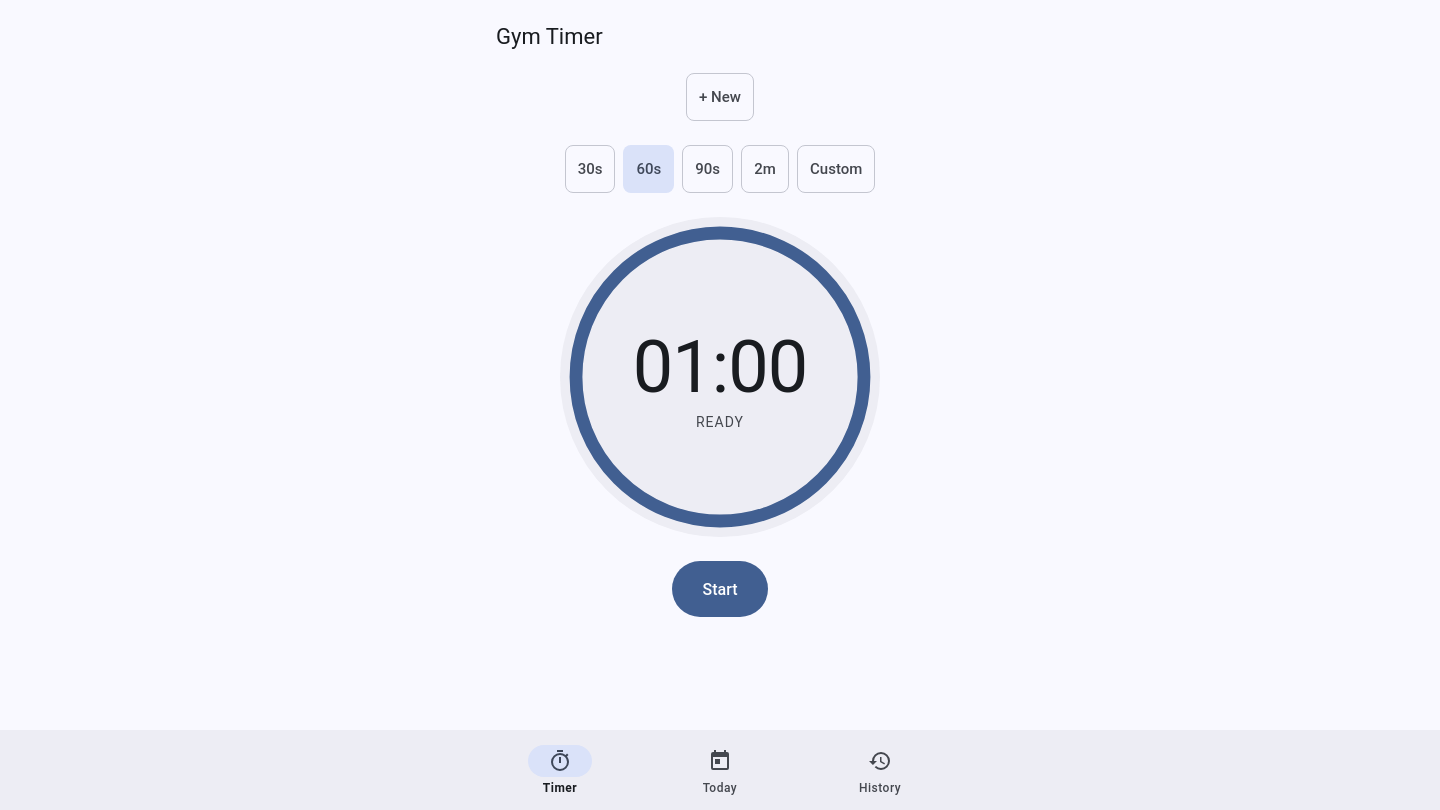
Test: exercise chips › + New creates and selects an exercise, which is stored
The width and height of the screenshot is (1440, 810).
Click the button "+ New": (720, 97) [686,73,754,121]
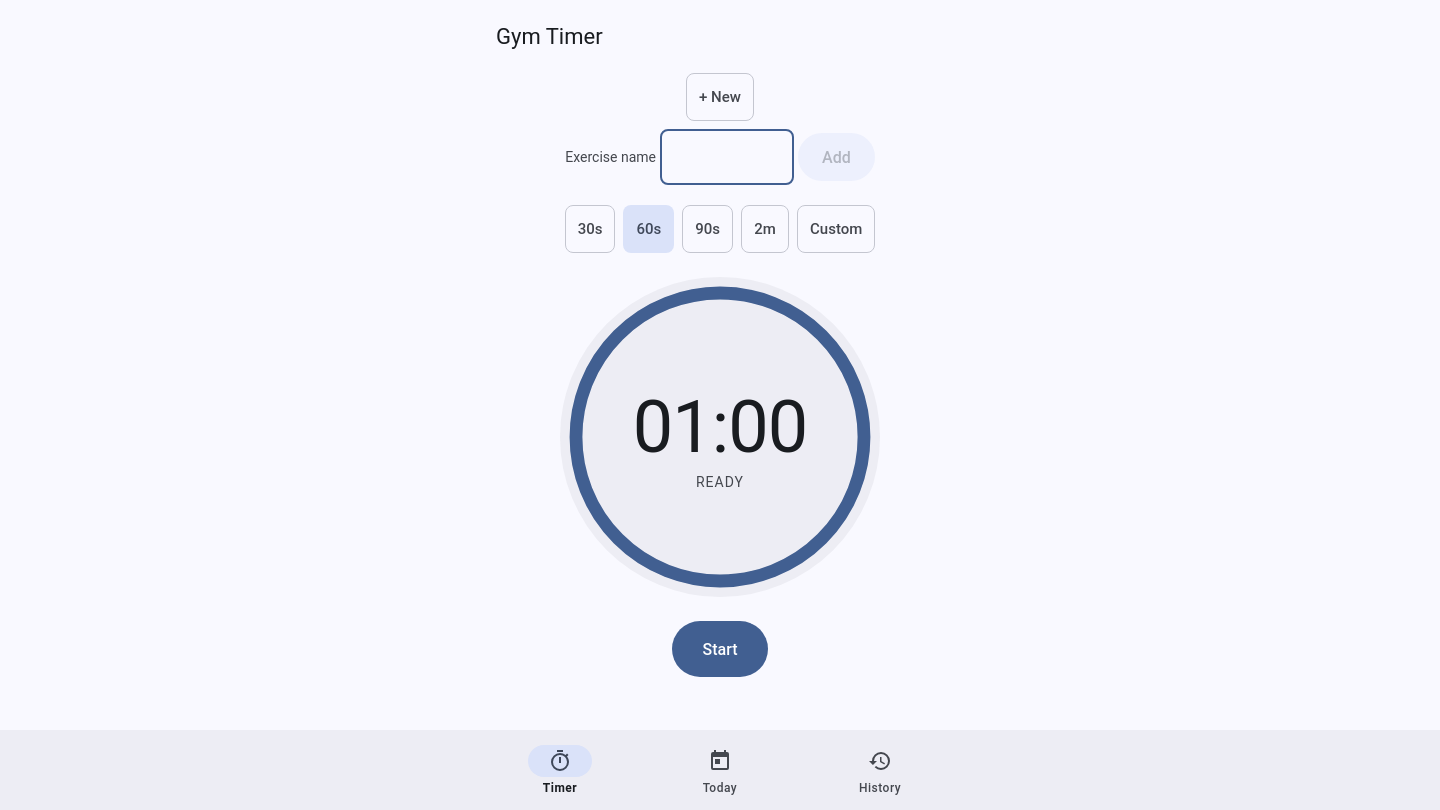
In the field labelled "Exercise name": (727, 157) [664,133,790,181], type "  Bench press "
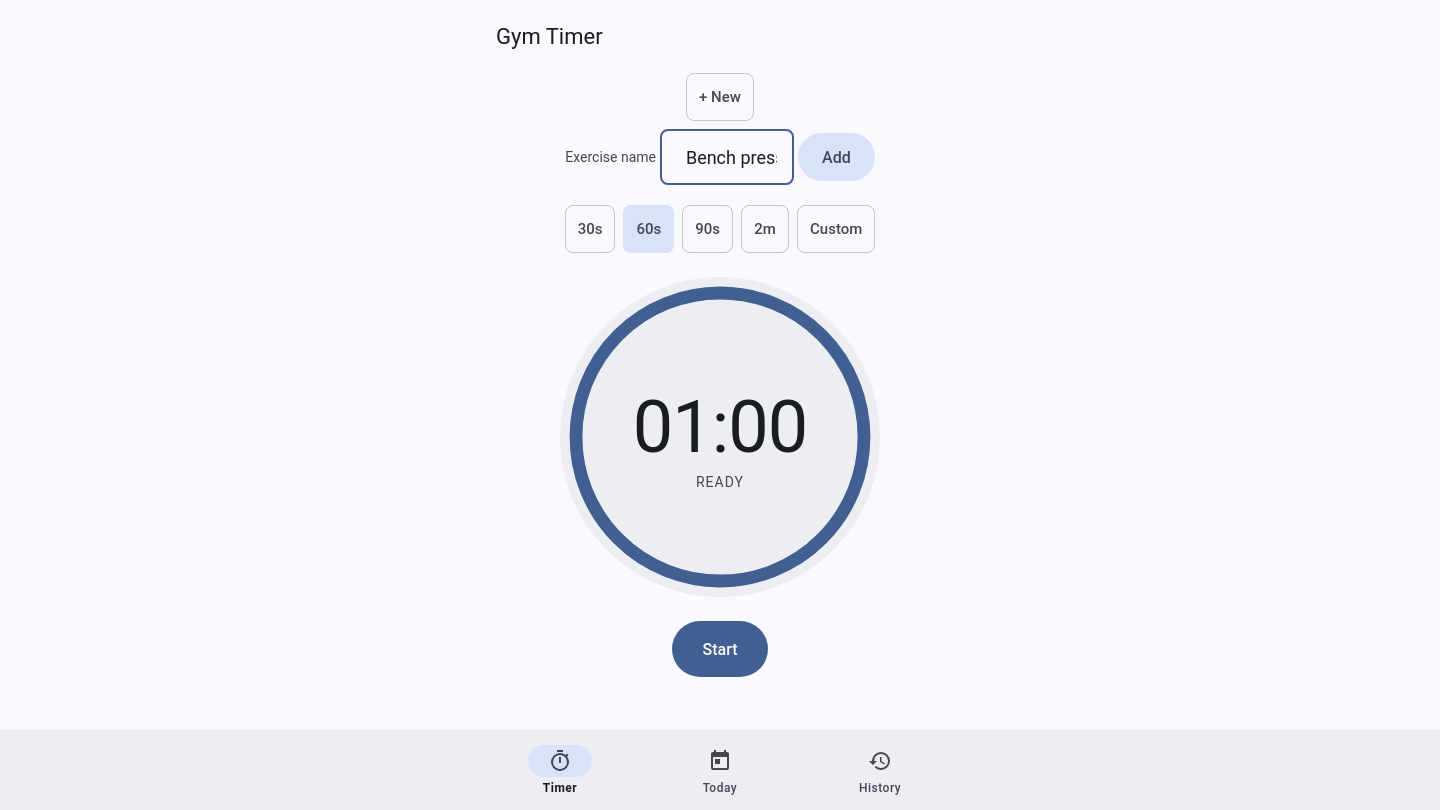
Click the button "Add": (836, 157) [798,133,875,181]
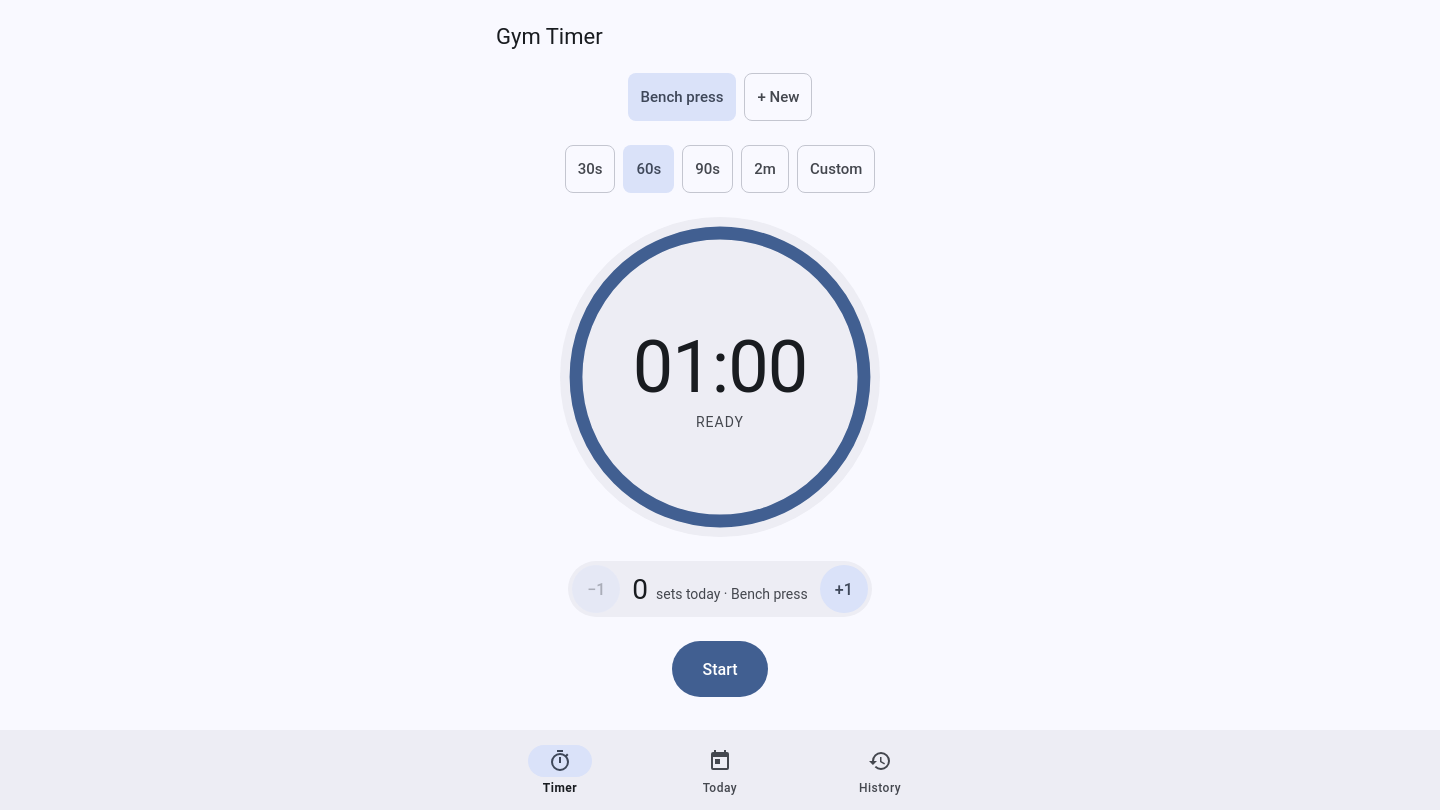
Expected: the label labelled "Exercise name" is gone
